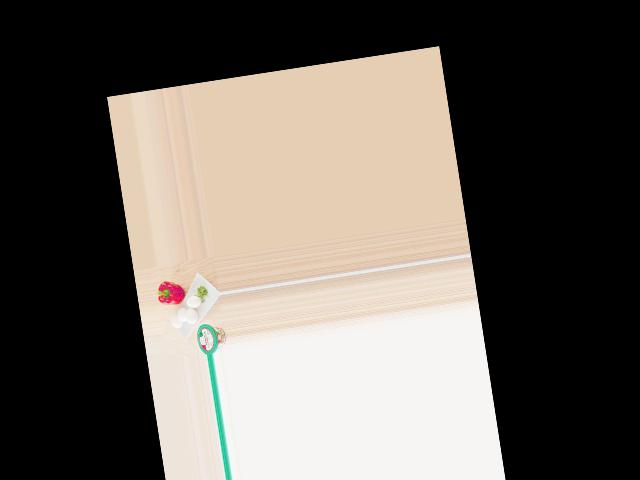bell_pepper: (156, 277, 186, 311)
